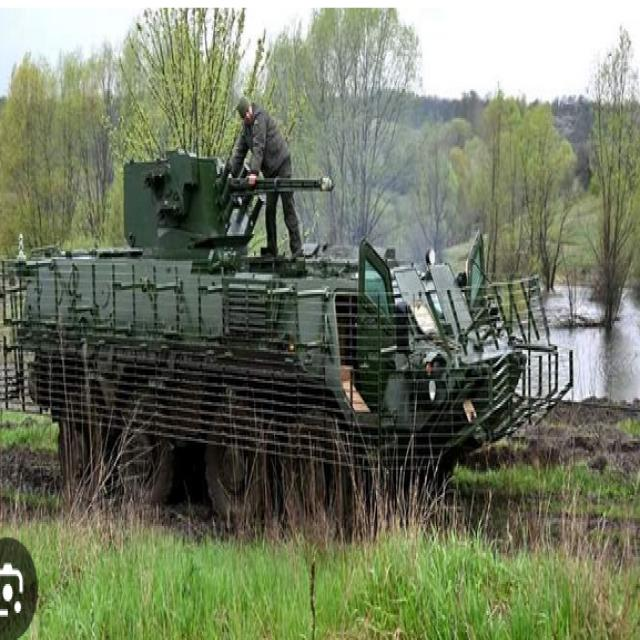MIL_APC: (6, 160, 562, 536)
